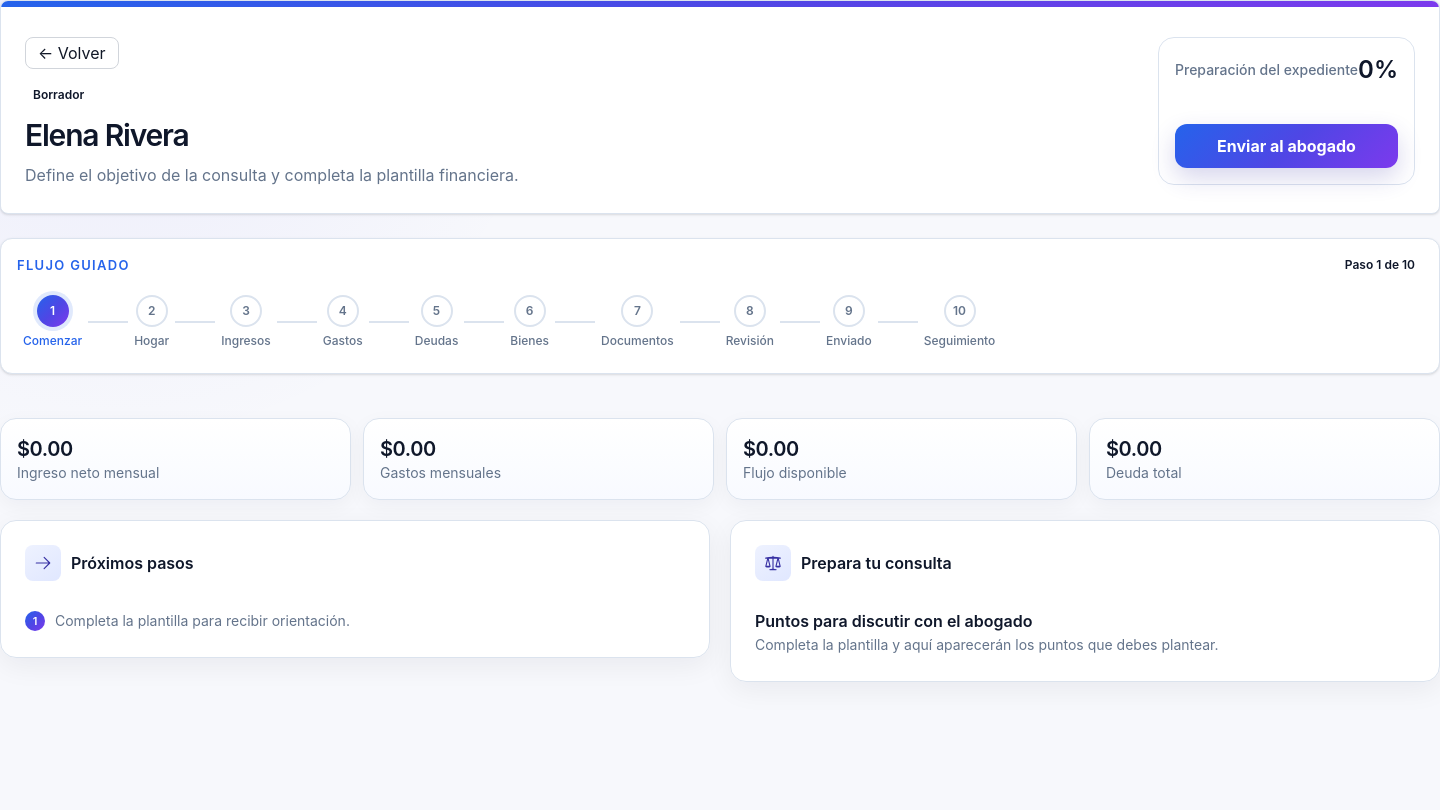
Test case: CaseWorkspacePage stage navigation › lands on the SAME section via the stepper click — one source of truth, and the click changes the URL rather than hidden state
Expected: the heading "Próximos pasos" is shown, [71,551,194,575]
Click the button "10 Seguimiento": point(960, 322) [918,291,1001,353]
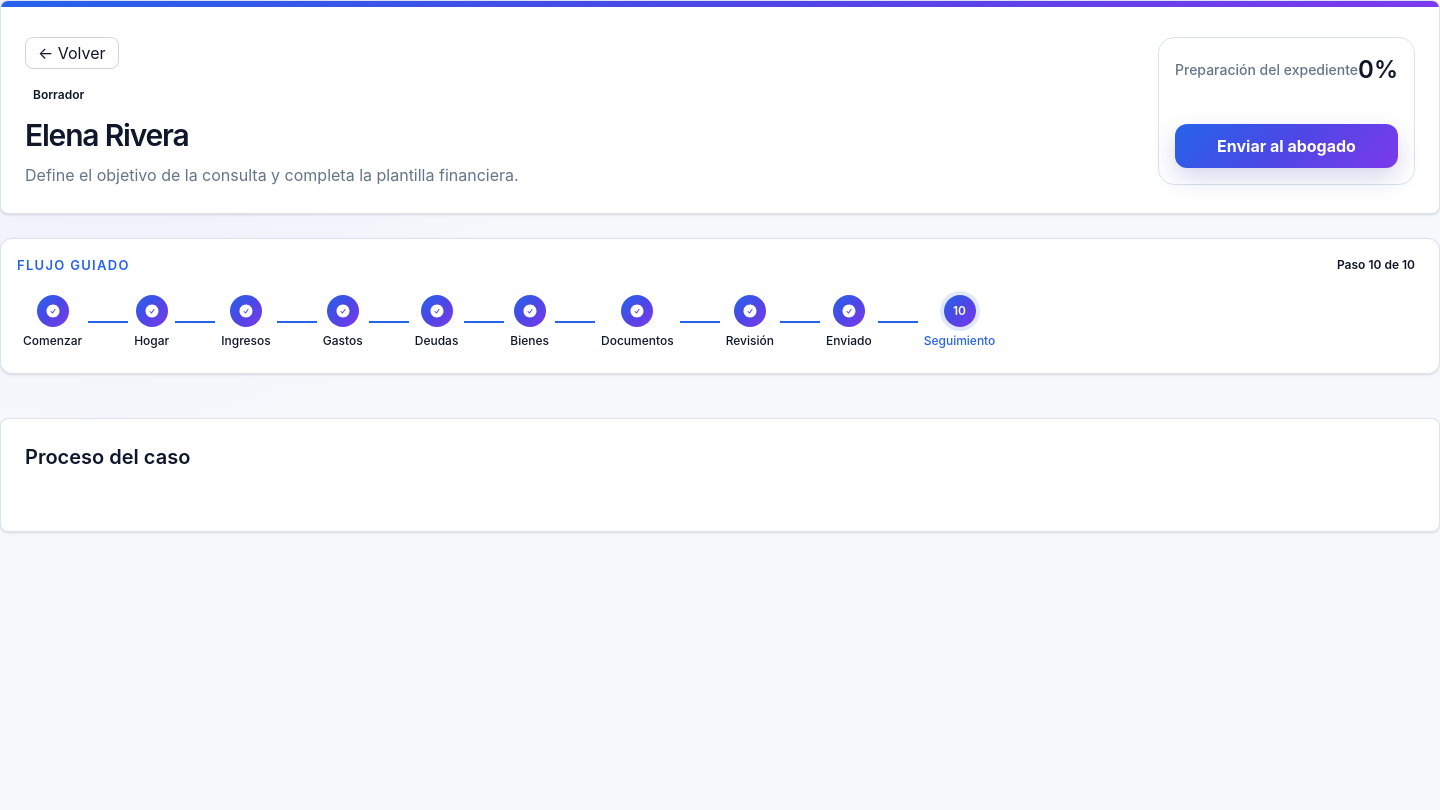
Now the heading "Proceso del caso" is shown, box [25,445,190,469]
